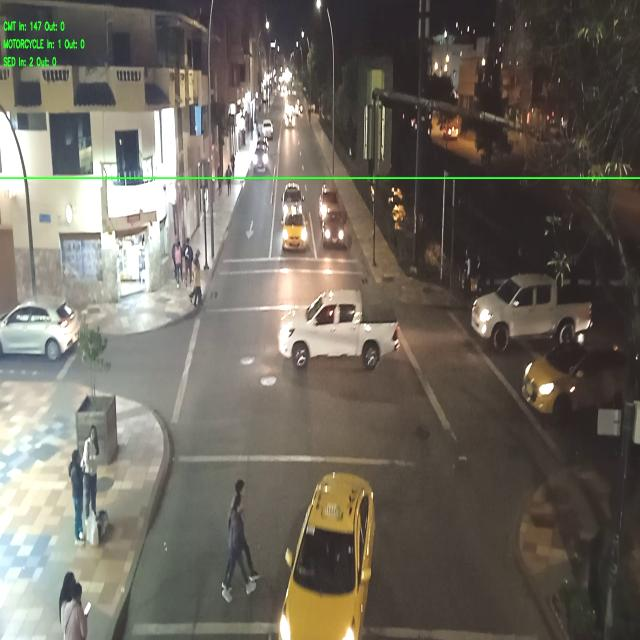CMT: (474, 274, 593, 337), (278, 292, 398, 354)
SED: (280, 476, 374, 640), (524, 340, 614, 410), (0, 301, 80, 359), (283, 214, 306, 250), (324, 215, 344, 247)
SUV: (255, 150, 268, 170), (262, 119, 274, 137)
